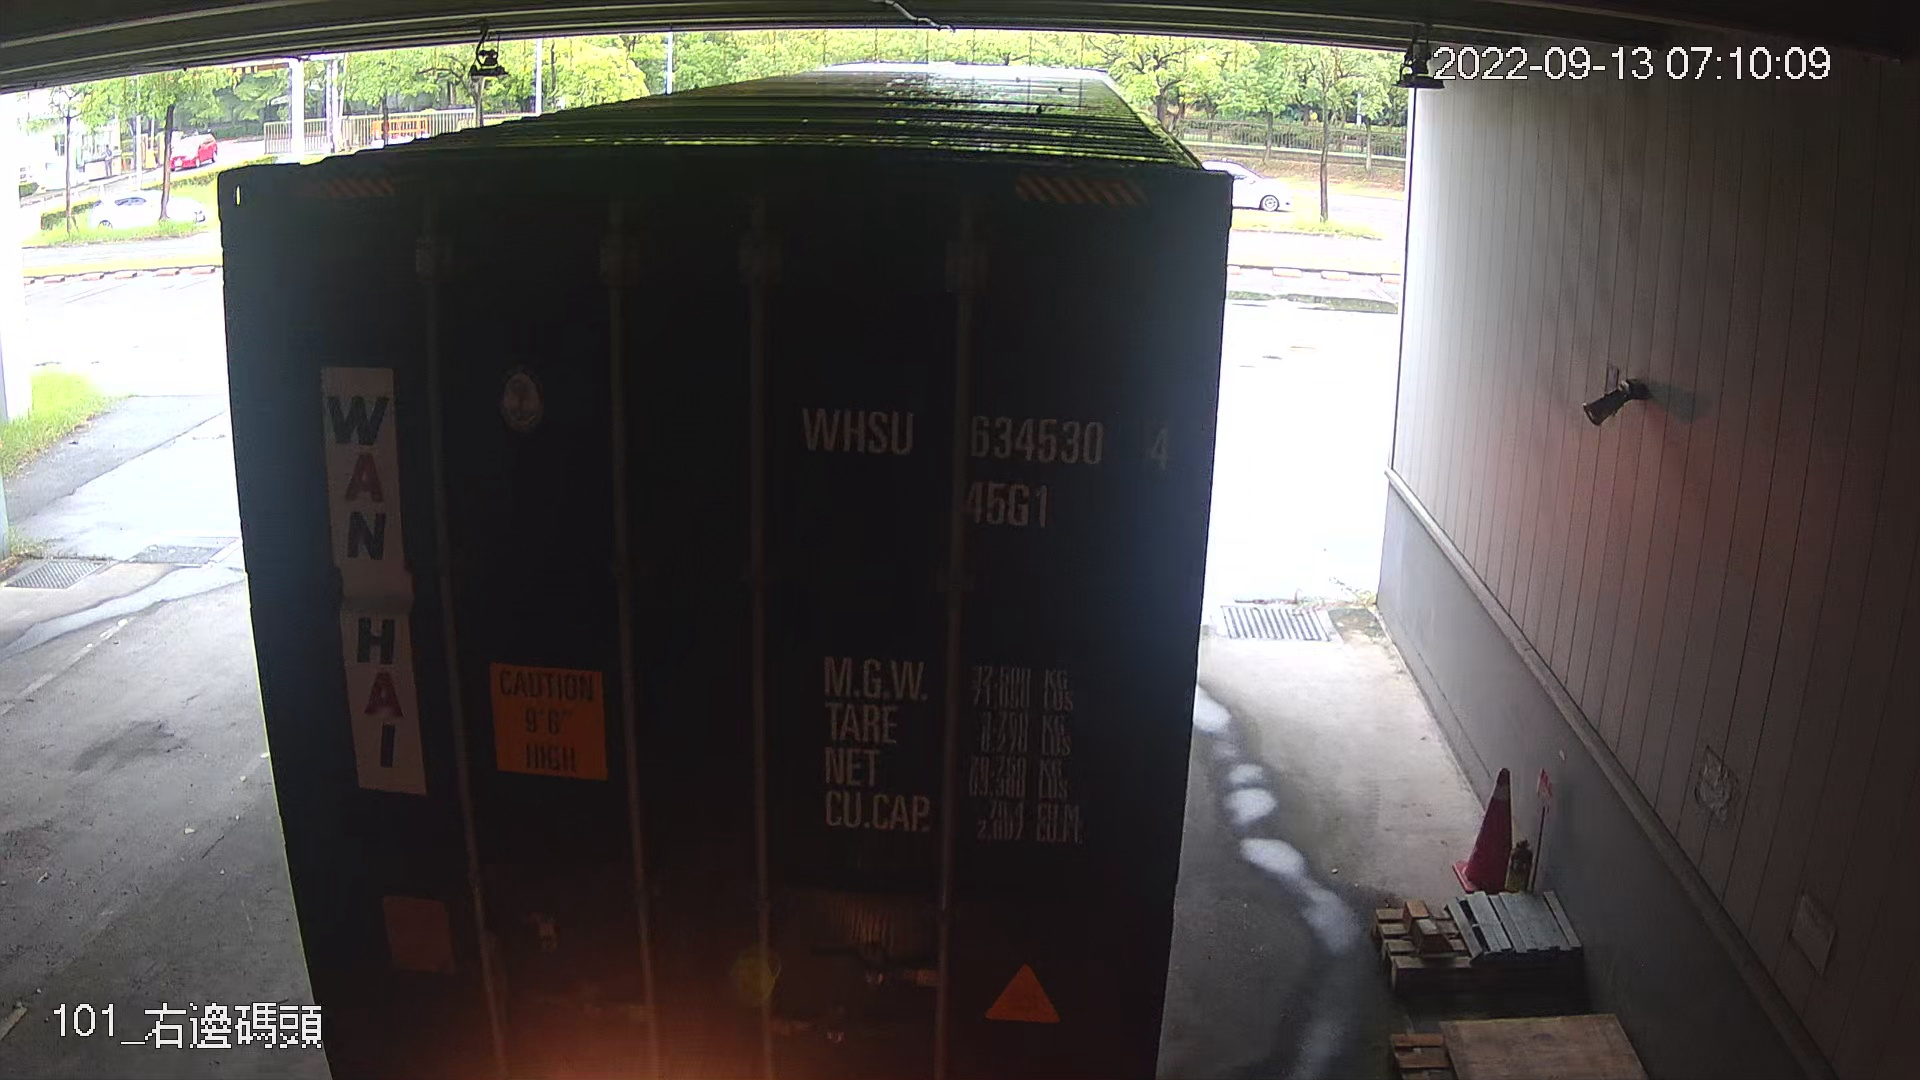container: (785, 386, 1191, 538)
